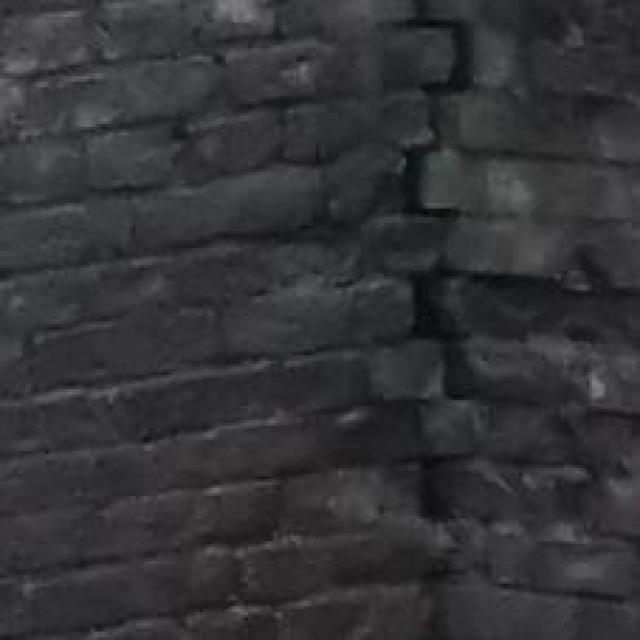Crack: (345, 0, 547, 640)
